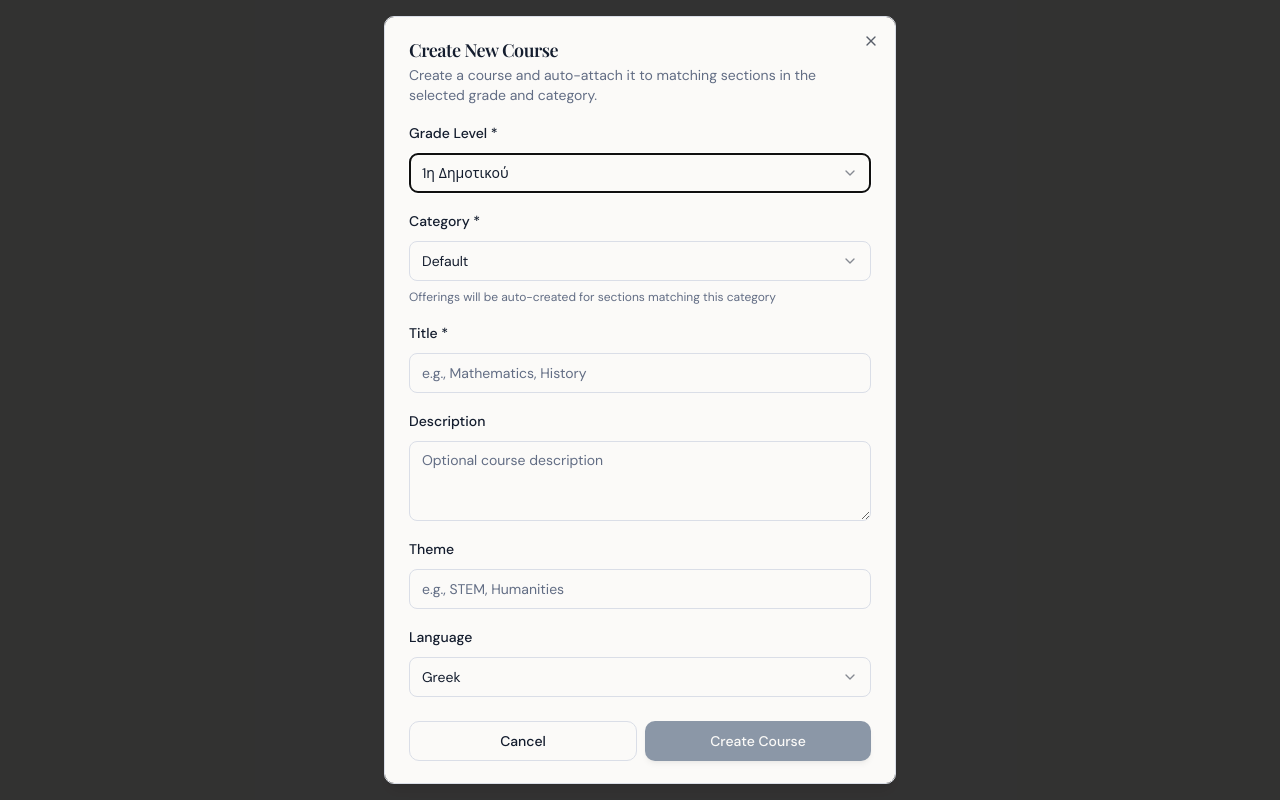
it: CreateCourseDialog › submit button is enabled when both grade and title are provided
This screenshot has width=1280, height=800.
Type "Math" into the field with placeholder "e.g., Mathematics, History" at (640, 373), box [409,353,871,393]
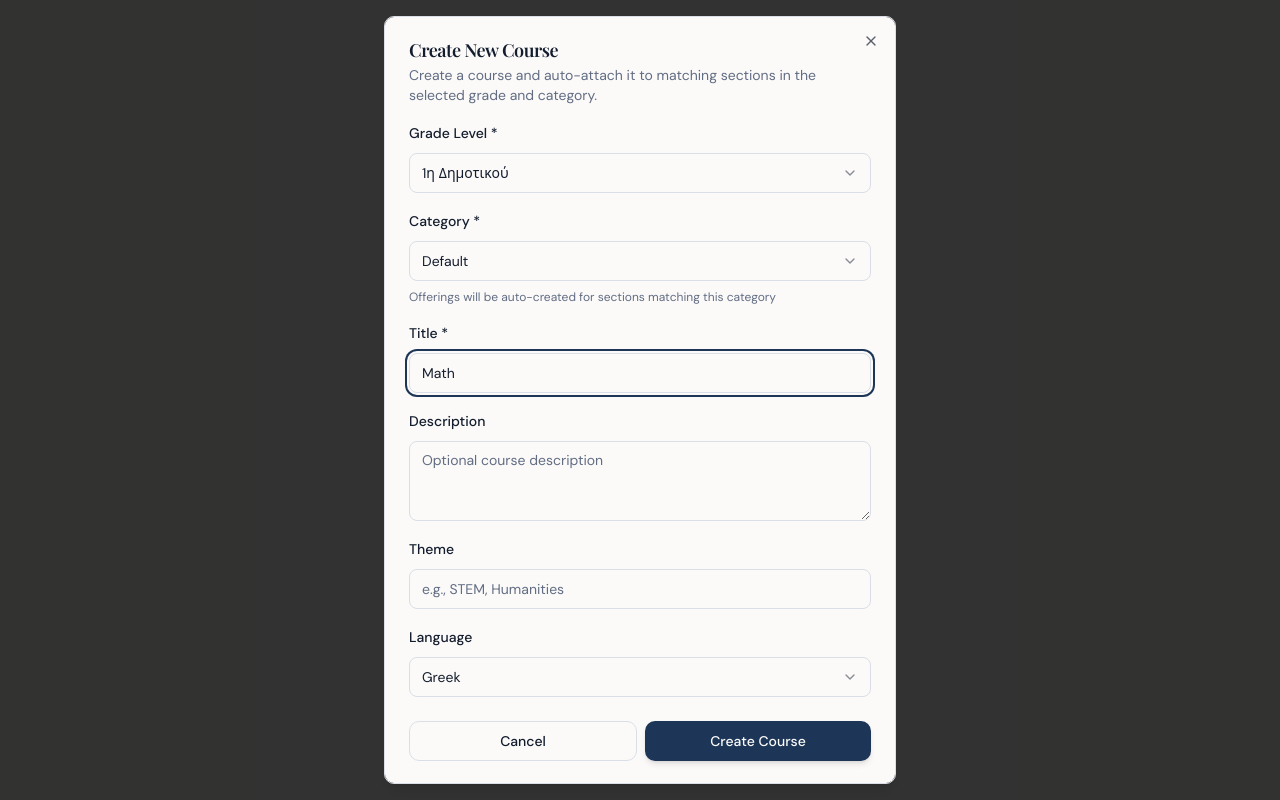
expect the button "Create Course" is enabled: met, box [645,721,871,761]
